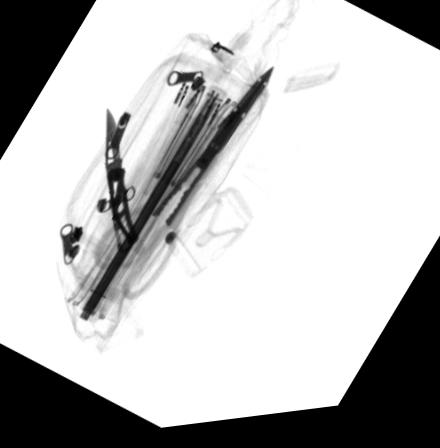Knife: (103, 106, 140, 256)
Scissors: (91, 71, 275, 301)
